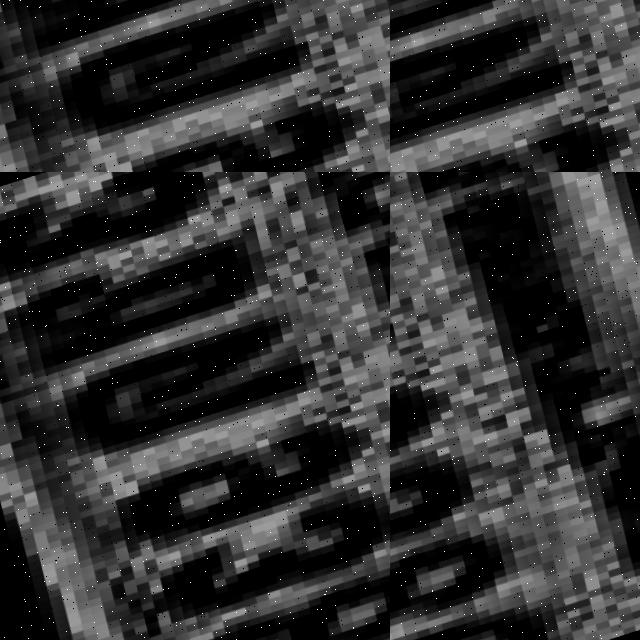license-plate: (0, 172, 390, 640), (390, 172, 640, 640), (0, 0, 390, 172)
